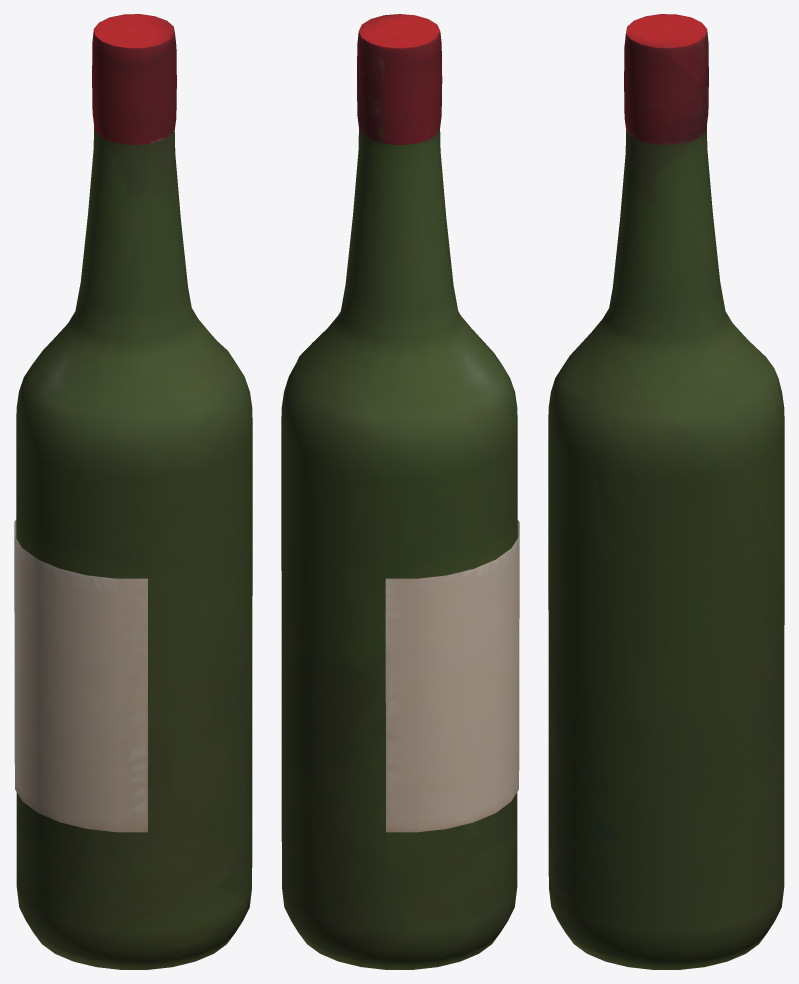
The model's file is SM_Bottles_03.fbx.
The picture shows the model from 3 angles, left to right: view 1: azimuth 30°, elevation 25°; view 2: azimuth 150°, elevation 25°; view 3: azimuth 270°, elevation 25°; orthographic projection.
Visible parts, largest first — view 1: SM_Bottles_03_LOD0; view 2: SM_Bottles_03_LOD0; view 3: SM_Bottles_03_LOD0.
Part boxes in pixels (<box>): SM_Bottles_03_LOD0: <box>14,14,252,969</box>; SM_Bottles_03_LOD0: <box>281,14,519,969</box>; SM_Bottles_03_LOD0: <box>548,14,784,969</box>.
Size of the model in its own units: 7.58 by 7.51 by 31.42.
